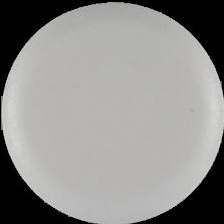49884-701: (0, 0, 224, 224)
